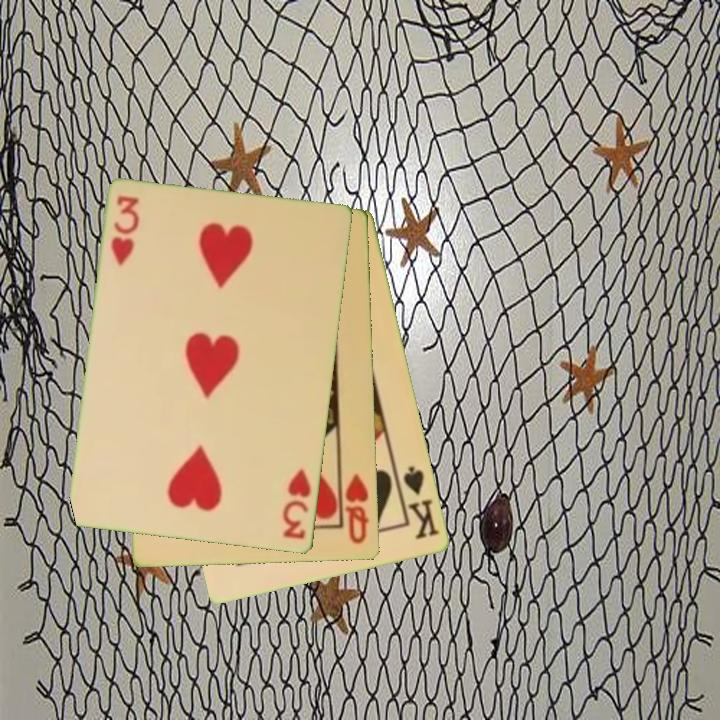3h: (279, 465, 314, 542), (107, 193, 142, 270)
Ks: (394, 463, 442, 543)
Qh: (338, 466, 372, 547)
